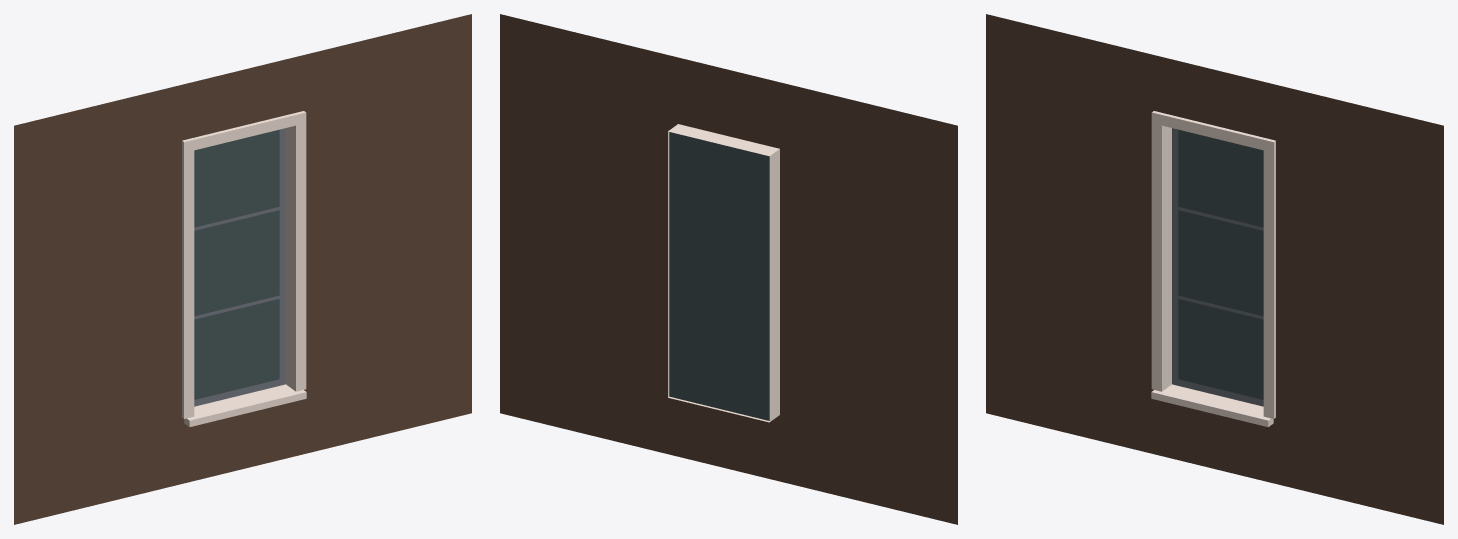
Rendered from mid-w4.fbx.
The picture shows the model from 3 angles, left to right: view 1: azimuth 30°, elevation 25°; view 2: azimuth 150°, elevation 25°; view 3: azimuth 330°, elevation 25°; orthographic projection.
Visible parts, largest first — view 1: a2001/800/mid-w4; view 2: a2001/800/mid-w4; view 3: a2001/800/mid-w4.
Boxes of the visible parts, x1,y1,x2,y2 form: a2001/800/mid-w4: [14, 14, 471, 524]; a2001/800/mid-w4: [500, 14, 957, 524]; a2001/800/mid-w4: [986, 14, 1443, 524].
Bounding box in the file's own units: 3.6 × 3 × 0.21.
